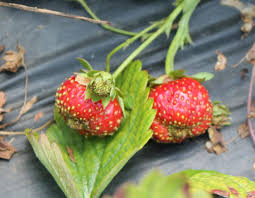ripe: (137, 70, 221, 156), (50, 64, 127, 141)
